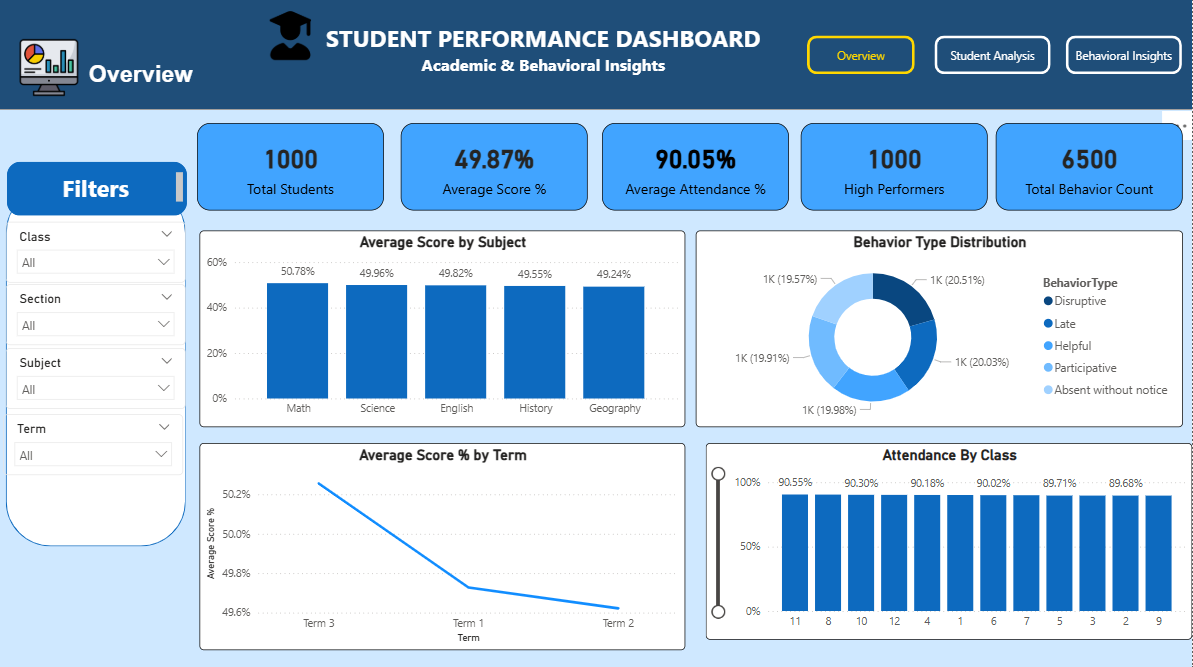

Layout of this report page (visuals, bound fields, positions):
{"tool":"powerbi","page":{"name":"Overview","canvas":[1366,768],"ordinal":0},"visuals":[{"type":"shape","box":[1.7,0,1365,128.3],"z":0},{"type":"card","title":"Total Students","fields":{"Values":["Measures Table.Total Students"]},"box":[228.3,143.3,213.3,100],"z":1000},{"type":"card","fields":{"Values":["Measures Table.Average Score %"]},"box":[461.7,143.3,213.3,100],"z":2000},{"type":"card","fields":{"Values":["Measures Table.Average Attendance %"]},"box":[691.7,143.3,213.3,100],"z":3000},{"type":"card","fields":{"Values":["Measures Table.High Performers"]},"box":[918.3,143.3,213.3,100],"z":4000},{"type":"card","fields":{"Values":["Measures Table.Total Behavior Count"]},"box":[1141.7,143.3,213.3,100],"z":5000},{"type":"clusteredColumnChart","title":"Average Score by Subject","fields":{"Category":["Scores.Subject"],"Y":["Measures Table.Average Score %"]},"box":[231.7,265,555,225],"z":6000},{"type":"donutChart","title":"Behavior Type Distribution","fields":{"Category":["Behavior.BehaviorType"],"Y":["Measures Table.Total Behavior Count"]},"box":[798.3,265,556.7,225],"z":7000},{"type":"lineChart","fields":{"Category":["Scores.Term"],"Y":["Measures Table.Average Score %"]},"box":[231.7,508.3,555,236.7],"z":8000},{"type":"columnChart","title":"Attendance By Class","fields":{"Category":["Students.Class"],"Y":["Measures Table.Average Attendance %"]},"box":[809.5,508.3,556,225],"z":9000},{"type":"textbox","box":[359.6,23.1,528.8,80.8],"z":10000},{"type":"shape","box":[9.6,217.3,205.8,409.6],"z":11000},{"type":"shape","box":[11.5,186.5,205.8,61.5],"z":12000},{"type":"textbox","box":[15.4,194.2,202,44.2],"z":13000},{"type":"slicer","fields":{"Values":["Students.Class"]},"box":[9.6,255.8,205.8,69.2],"z":14000},{"type":"slicer","fields":{"Values":["Students.Section"]},"box":[9.6,326.9,205.8,69.2],"z":15000},{"type":"slicer","fields":{"Values":["Scores.Subject"]},"box":[9.6,400,205.8,69.2],"z":16000},{"type":"slicer","fields":{"Values":["Scores.Term"]},"box":[7.7,475,205.8,69.2],"z":17000},{"type":"actionButton","box":[925,42.3,123.1,44.2],"z":18000},{"type":"actionButton","box":[1071.2,42.3,132.7,44.2],"z":19000},{"type":"actionButton","box":[1221.2,42.3,132.7,44.2],"z":20000},{"type":"image","box":[8.3,45,101.7,70],"z":20001},{"type":"textbox","box":[90,66.7,148.3,45],"z":20002},{"type":"image","box":[293.3,8.3,85,68.3],"z":20003}]}

Visuals, with their boxes in screenshot pixels (x1, y1, x2, y2), scaled from the page's 1366x768 canvas onto the 1193x667 screenshot:
shape: 1:0:1192:111
"Total Students" card: 199:124:386:211
card - Measures Table.Average Score %: 403:124:590:211
card - Measures Table.Average Attendance %: 604:124:790:211
card - Measures Table.High Performers: 802:124:988:211
card - Measures Table.Total Behavior Count: 997:124:1183:211
"Average Score by Subject" clusteredColumnChart: 202:230:687:426
"Behavior Type Distribution" donutChart: 697:230:1183:426
lineChart - Scores.Term x Measures Table.Average Score %: 202:441:687:647
"Attendance By Class" columnChart: 707:441:1192:637
textbox: 314:20:776:90
shape: 8:189:188:544
shape: 10:162:190:215
textbox: 13:169:190:207
slicer - Students.Class: 8:222:188:282
slicer - Students.Section: 8:284:188:344
slicer - Scores.Subject: 8:347:188:407
slicer - Scores.Term: 7:413:186:473
actionButton: 808:37:915:75
actionButton: 936:37:1051:75
actionButton: 1067:37:1182:75
image: 7:39:96:100
textbox: 79:58:208:97
image: 256:7:330:67
